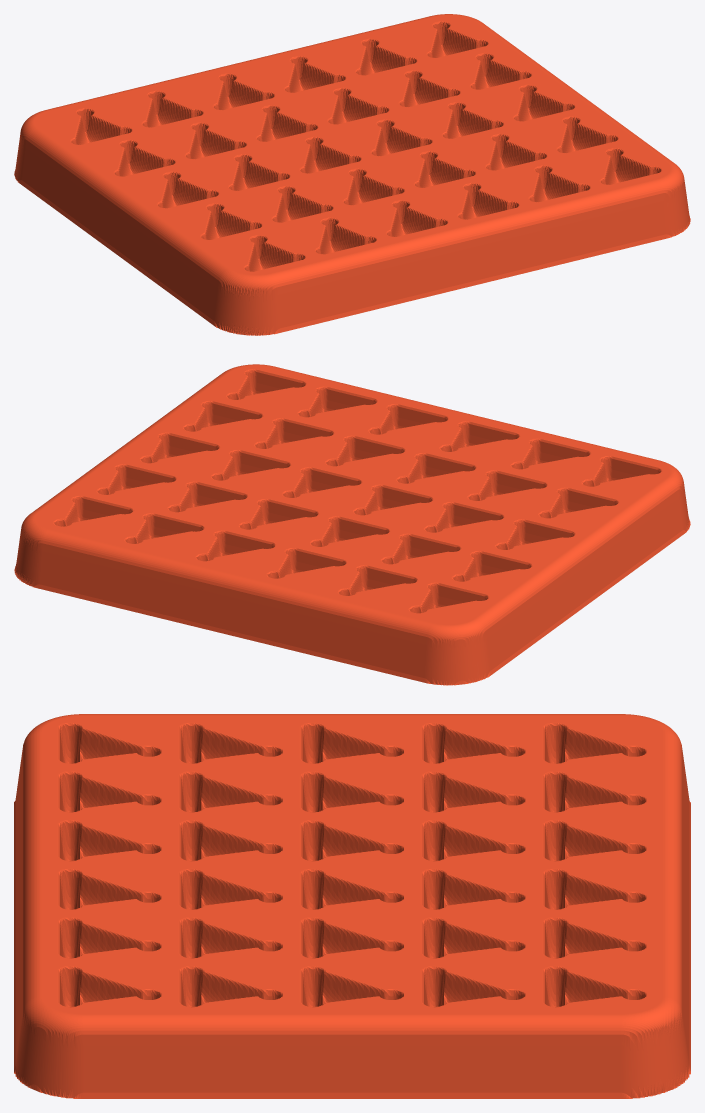
File: mold.glb
3 views of the same model, one above another, from view 1: azimuth 30°, elevation 25°; view 2: azimuth 150°, elevation 25°; view 3: azimuth 270°, elevation 25° (orthographic). The views are drawn at different scales.
Parts seen in each view (by area): view 1: geometry_0; view 2: geometry_0; view 3: geometry_0.
Part boxes in pixels (<box>): geometry_0: <box>14,14,690,335</box>; geometry_0: <box>14,364,690,685</box>; geometry_0: <box>14,714,690,1098</box>.
Size of the model in its own units: 0.0992 by 0.0105 by 0.0882.
